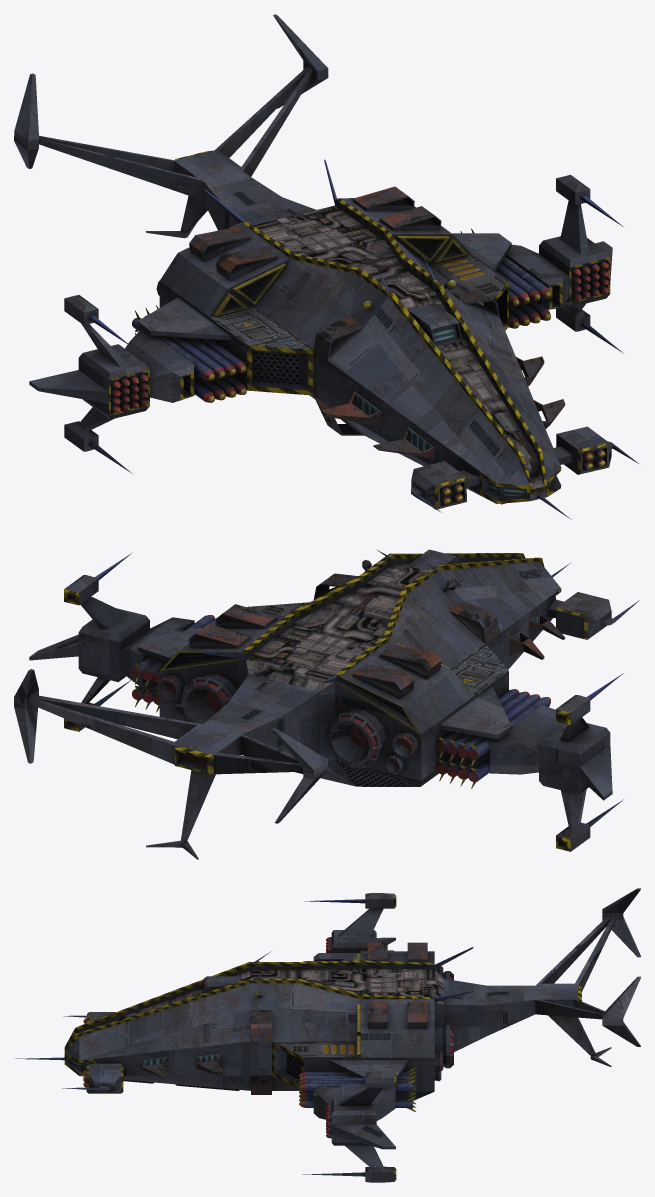
File: CobraBomber.obj
3 renders of one model, top to bottom at view 1: azimuth 30°, elevation 25°; view 2: azimuth 150°, elevation 25°; view 3: azimuth 270°, elevation 25°, orthographic. The views are drawn at different scales.
Visible parts, largest first — view 1: Object01; view 2: Object01; view 3: Object01.
Boxes of the visible parts, bbox=[...] form: Object01: bbox=[14, 14, 638, 519]; Object01: bbox=[14, 549, 639, 859]; Object01: bbox=[15, 888, 640, 1182].
Bounding box in the file's own units: 61.41 × 21.89 × 77.85.
